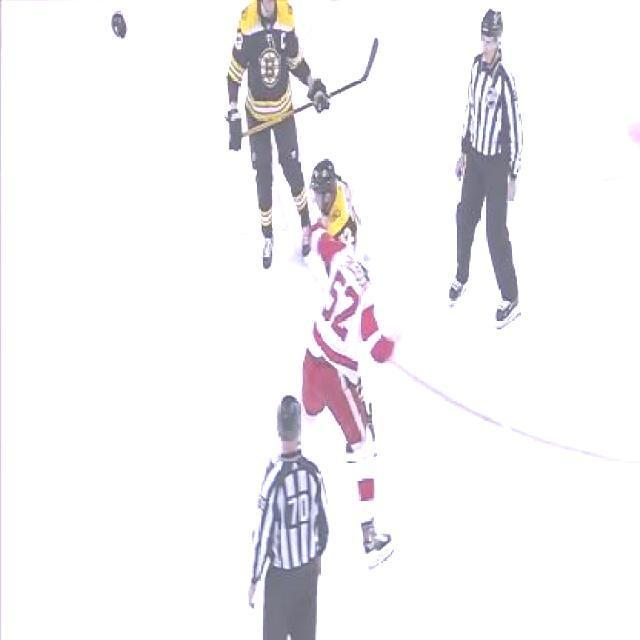fight: (302, 155, 402, 517)
